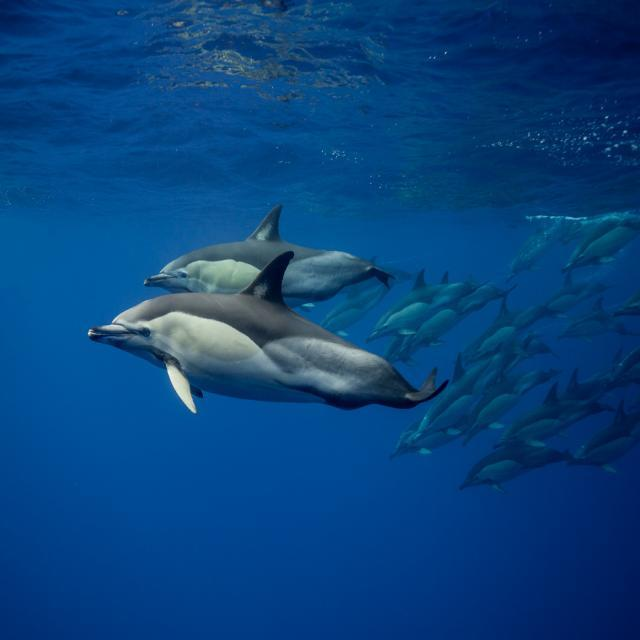dolphin: (62, 287, 460, 493), (106, 174, 387, 310)
